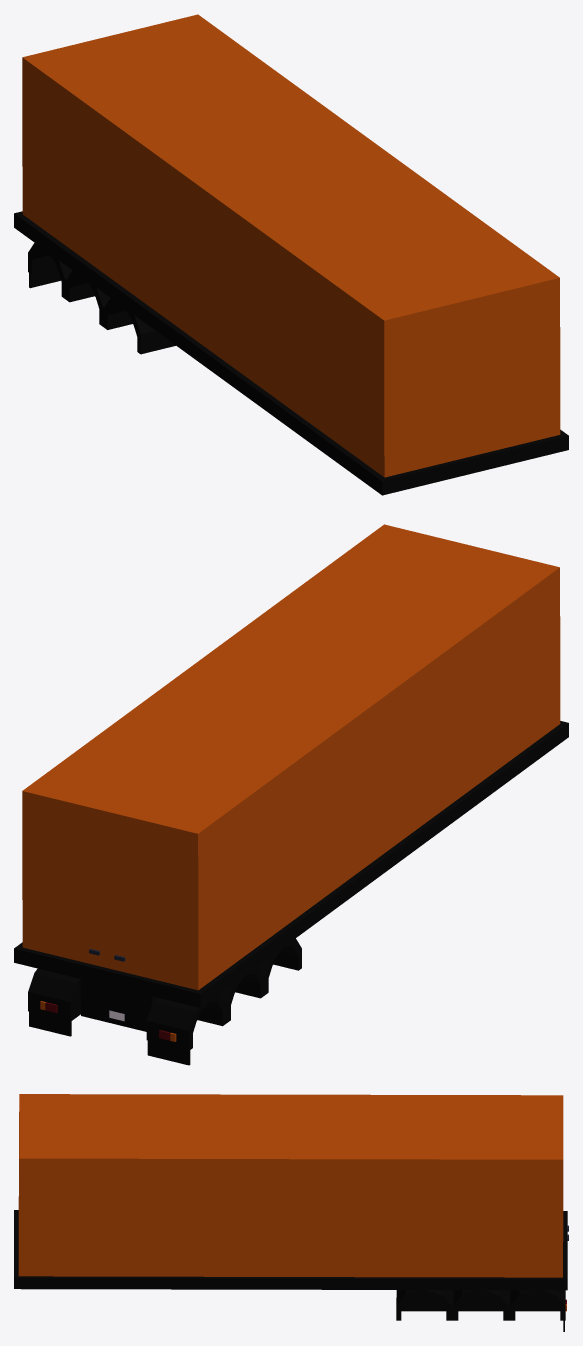
File: rgs-freight-trailer.glb
3 views of the same model, one above another, from view 1: azimuth 30°, elevation 25°; view 2: azimuth 150°, elevation 25°; view 3: azimuth 270°, elevation 25° (orthographic). The views are drawn at different scales.
Parts seen in each view (by area): view 1: trailer-body; view 2: trailer-body; view 3: trailer-body.
Boxes of the visible parts, <box> form: trailer-body: <box>14,14,568,495</box>; trailer-body: <box>14,524,568,1065</box>; trailer-body: <box>14,1094,568,1331</box>.
Bounding box in the file's own units: 324 × 389 × 1110.
